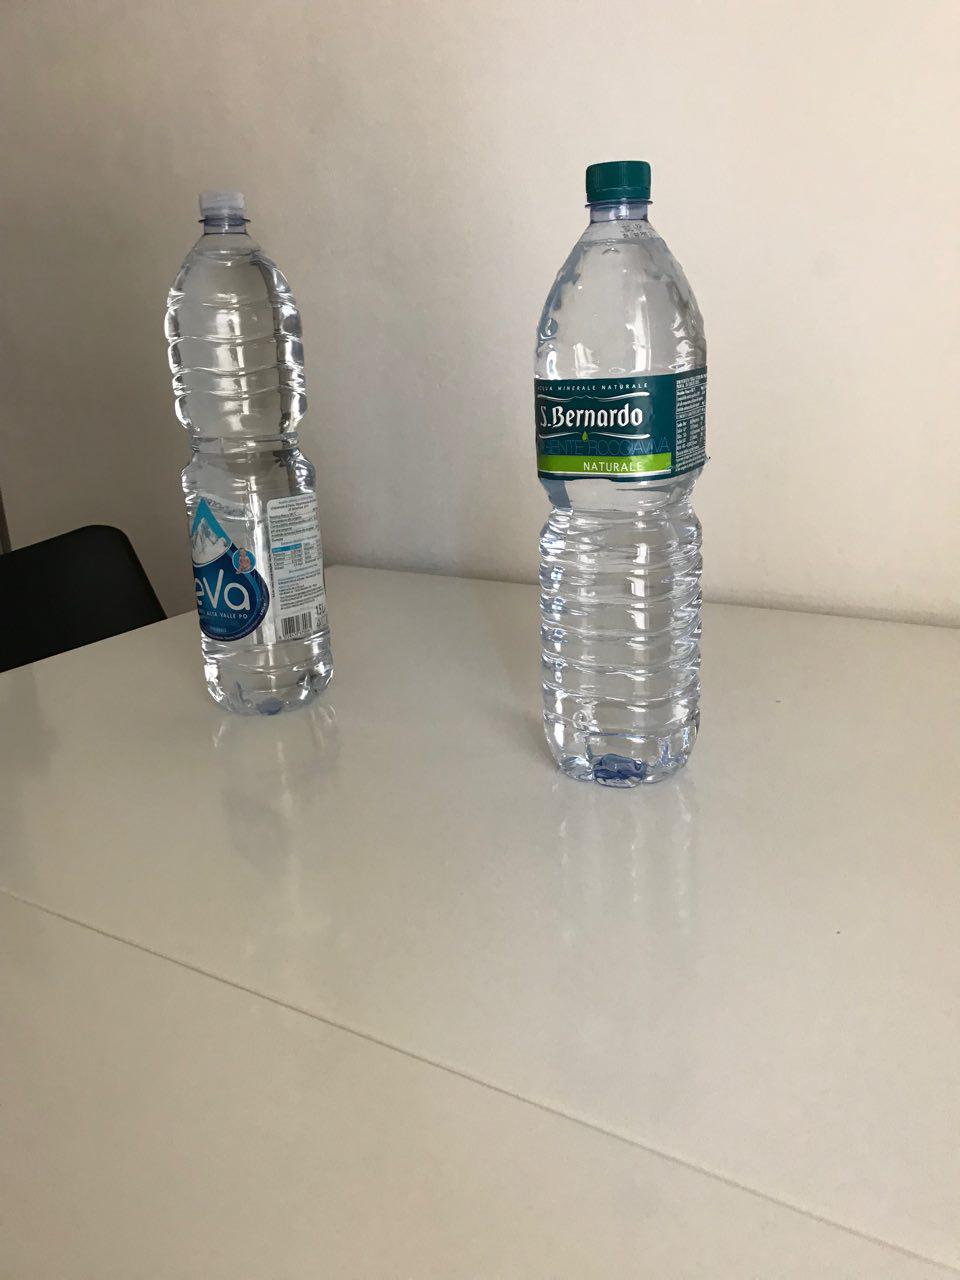san_bernardo: (533, 159, 708, 790)
